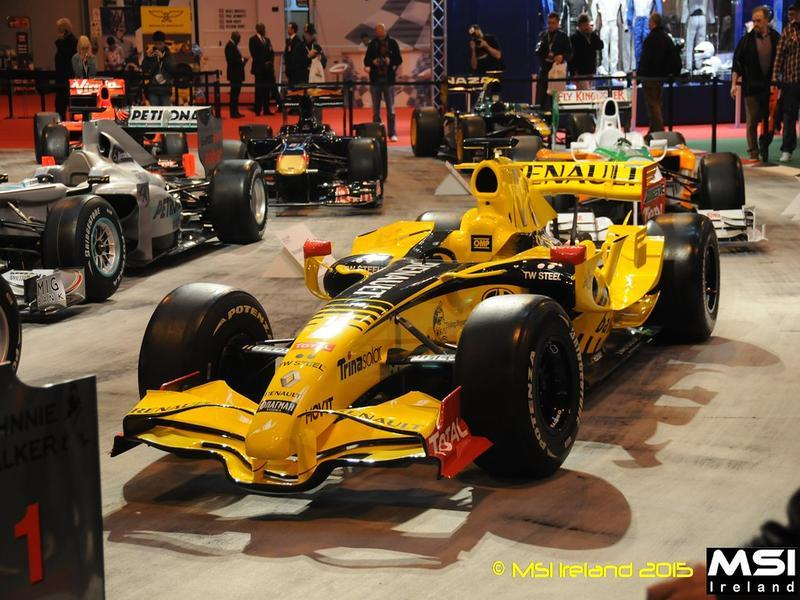f1: (156, 154, 694, 485), (1, 104, 277, 313), (505, 90, 792, 257), (234, 85, 418, 222)
